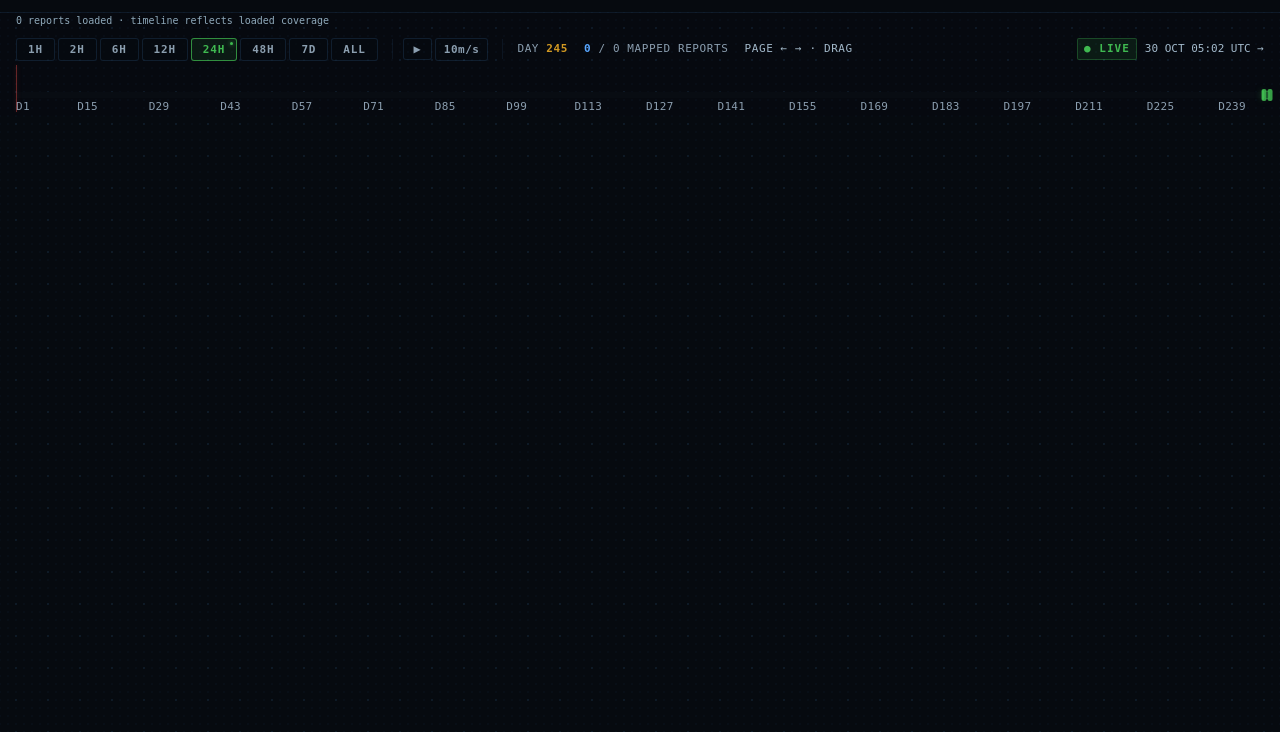
Test: report timeline state › preserves the replay cursor on pause and labels it explicitly
Click the button titled "Replay events in current window" at (417, 49), box [403,38,432,60]
Wait 50 ms
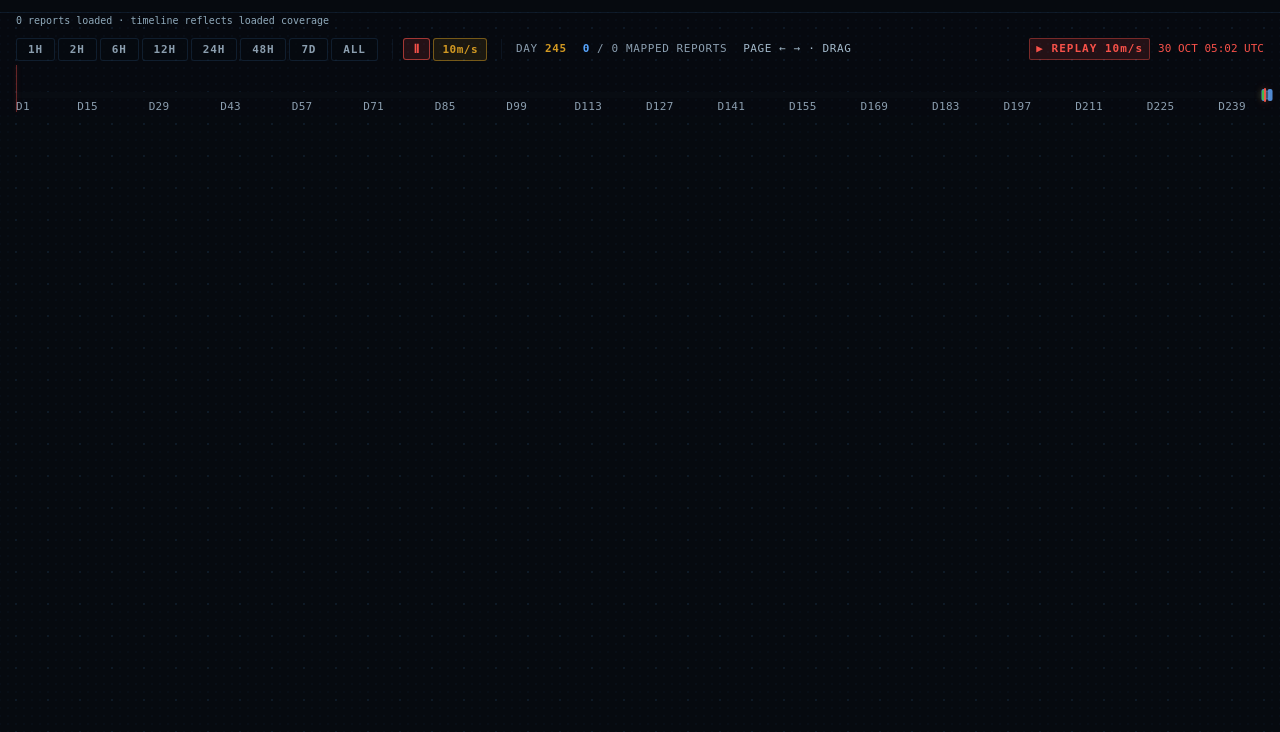
Click the button titled "Replay events in current window" at (417, 49), box [403,38,430,60]
Wait 1000 ms
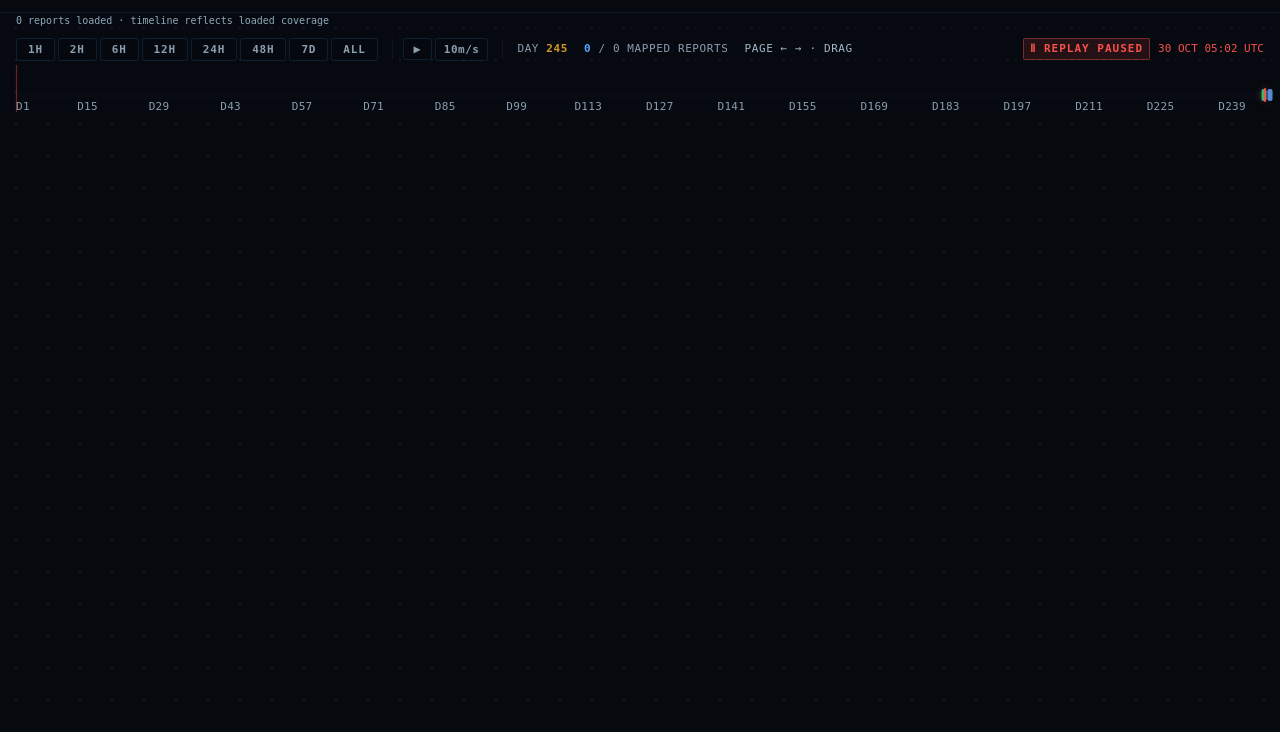
Expected: the text "● LIVE" is not shown
Now the text "REPLAY PAUSED" is shown, box [1030,42,1143,55]
Click the button titled "Replay events in current window" at (417, 49), box [403,38,432,60]
Wait 50 ms
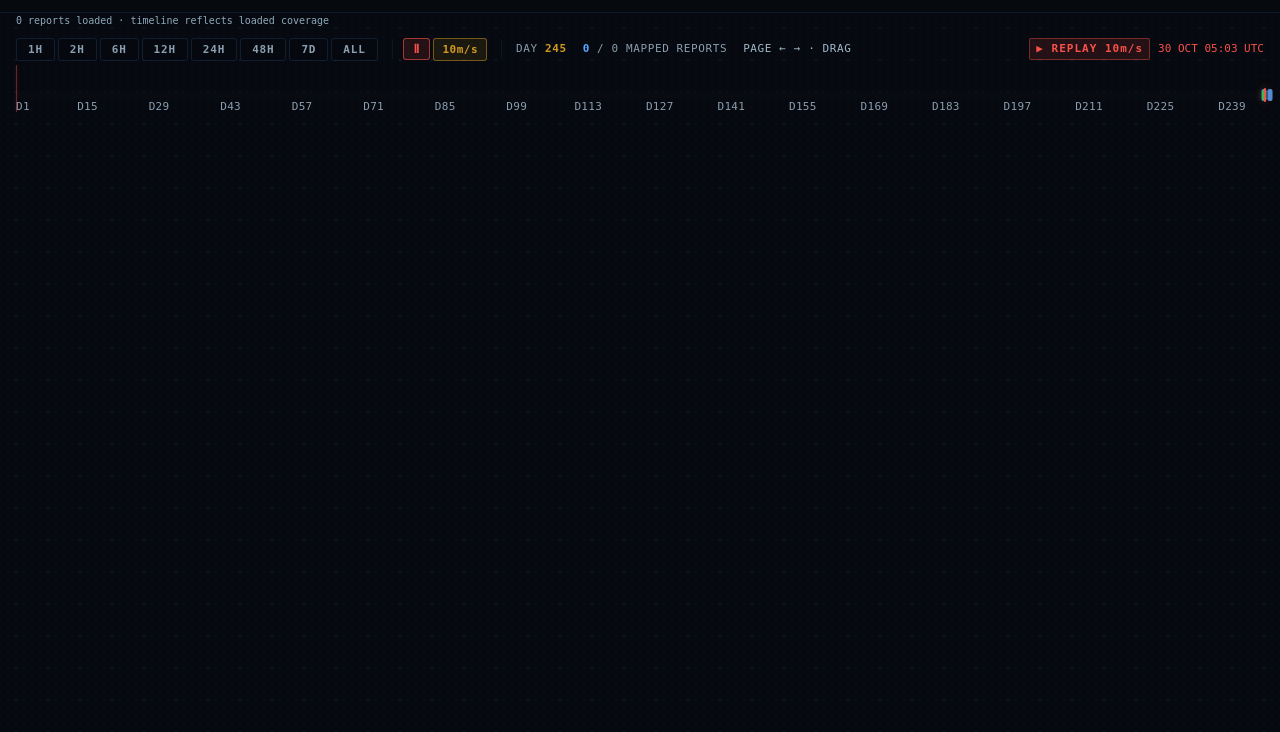
Click the button "24H" at (214, 49), box [191,38,237,60]
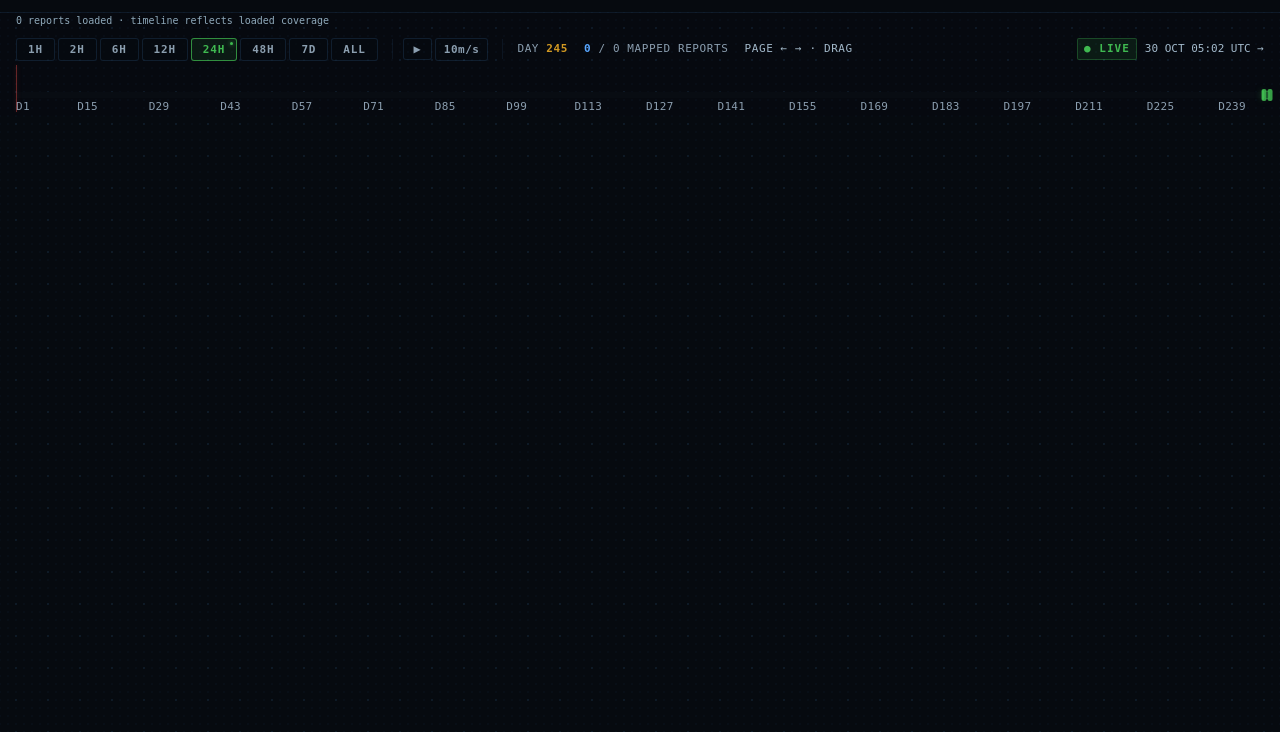
Now the text "● LIVE" is shown, box [1077,38,1137,60]
